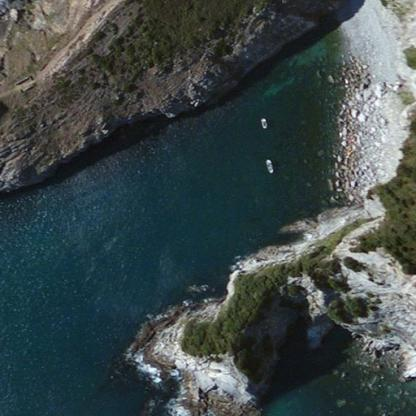ship: (259, 116, 267, 128), (246, 164, 258, 167)
